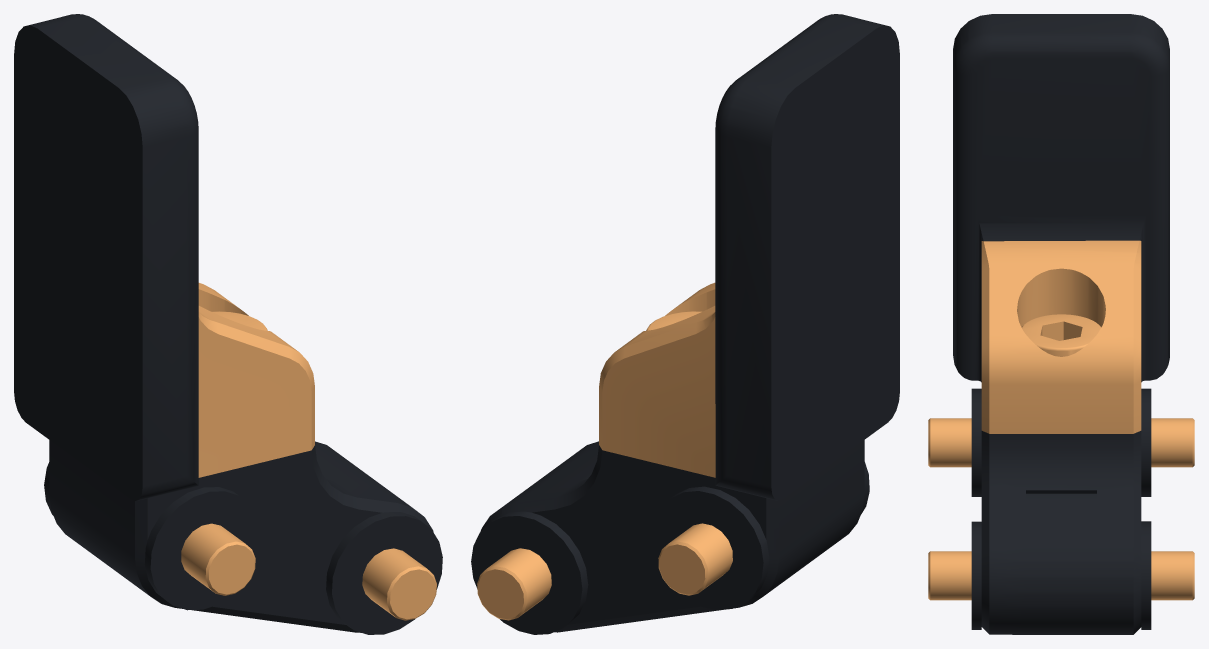
The model's file is left_finger_tip.dae.
3 renders of one model, left to right at view 1: azimuth 30°, elevation 25°; view 2: azimuth 150°, elevation 25°; view 3: azimuth 270°, elevation 25°, orthographic. The views are drawn at different scales.
Visible parts, largest first — view 1: left_finger_tip; view 2: left_finger_tip; view 3: left_finger_tip.
Boxes of the visible parts, box(x1,y1,x2,y2) form: left_finger_tip: box(14, 14, 442, 634); left_finger_tip: box(471, 14, 899, 634); left_finger_tip: box(928, 14, 1194, 634).
Size of the model in its own units: 0.0312 by 0.027 by 0.057.
